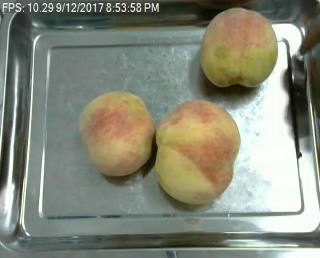Peach: (153, 99, 239, 206), (200, 5, 278, 90), (80, 91, 154, 176)
